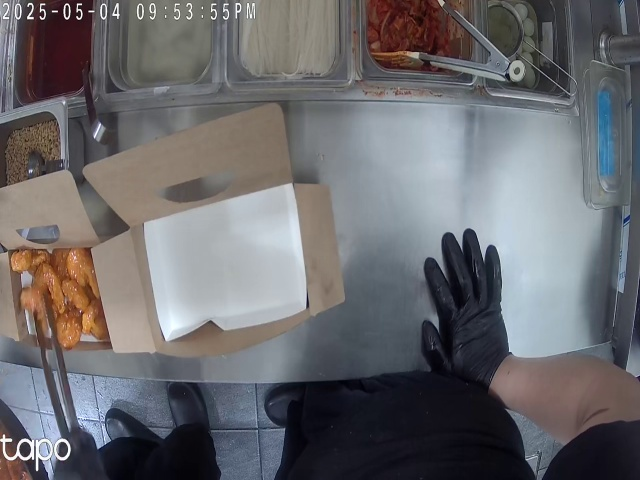delivery box: (90, 148, 342, 335), (0, 188, 130, 352)
food: (14, 250, 104, 344)
hand: (420, 235, 514, 379)
